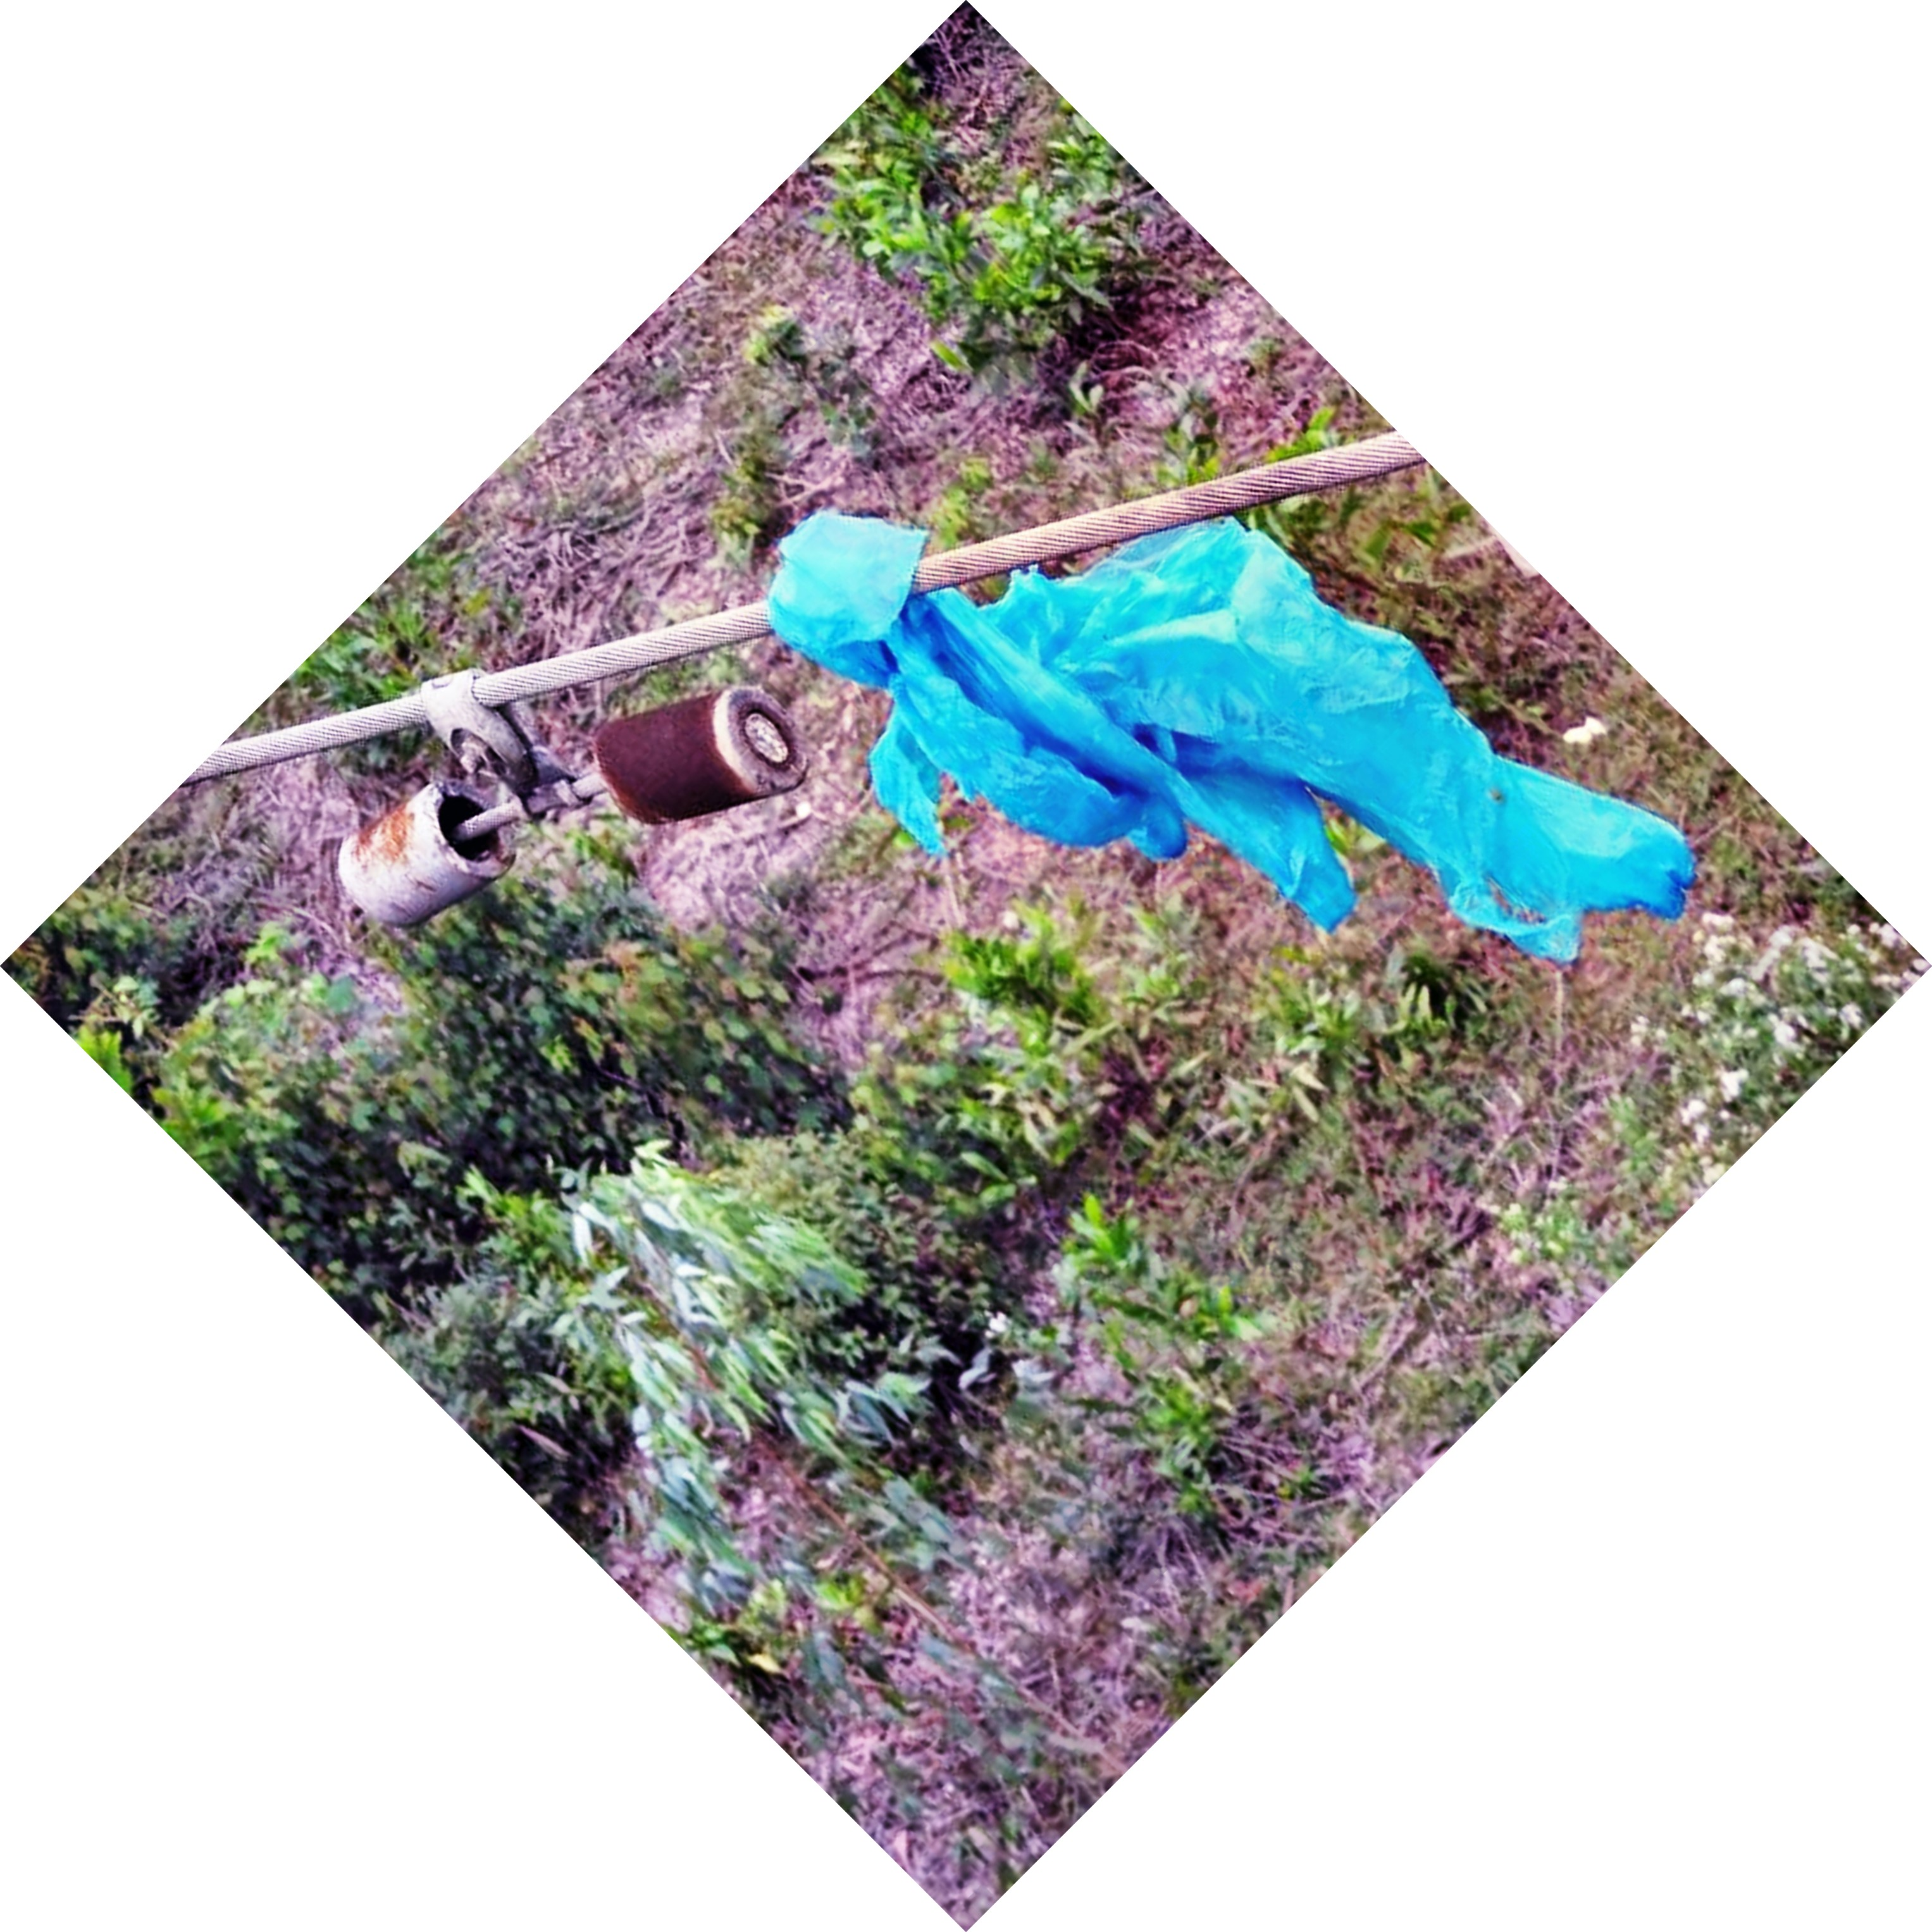wire foreign body: (717, 453, 1660, 952)
